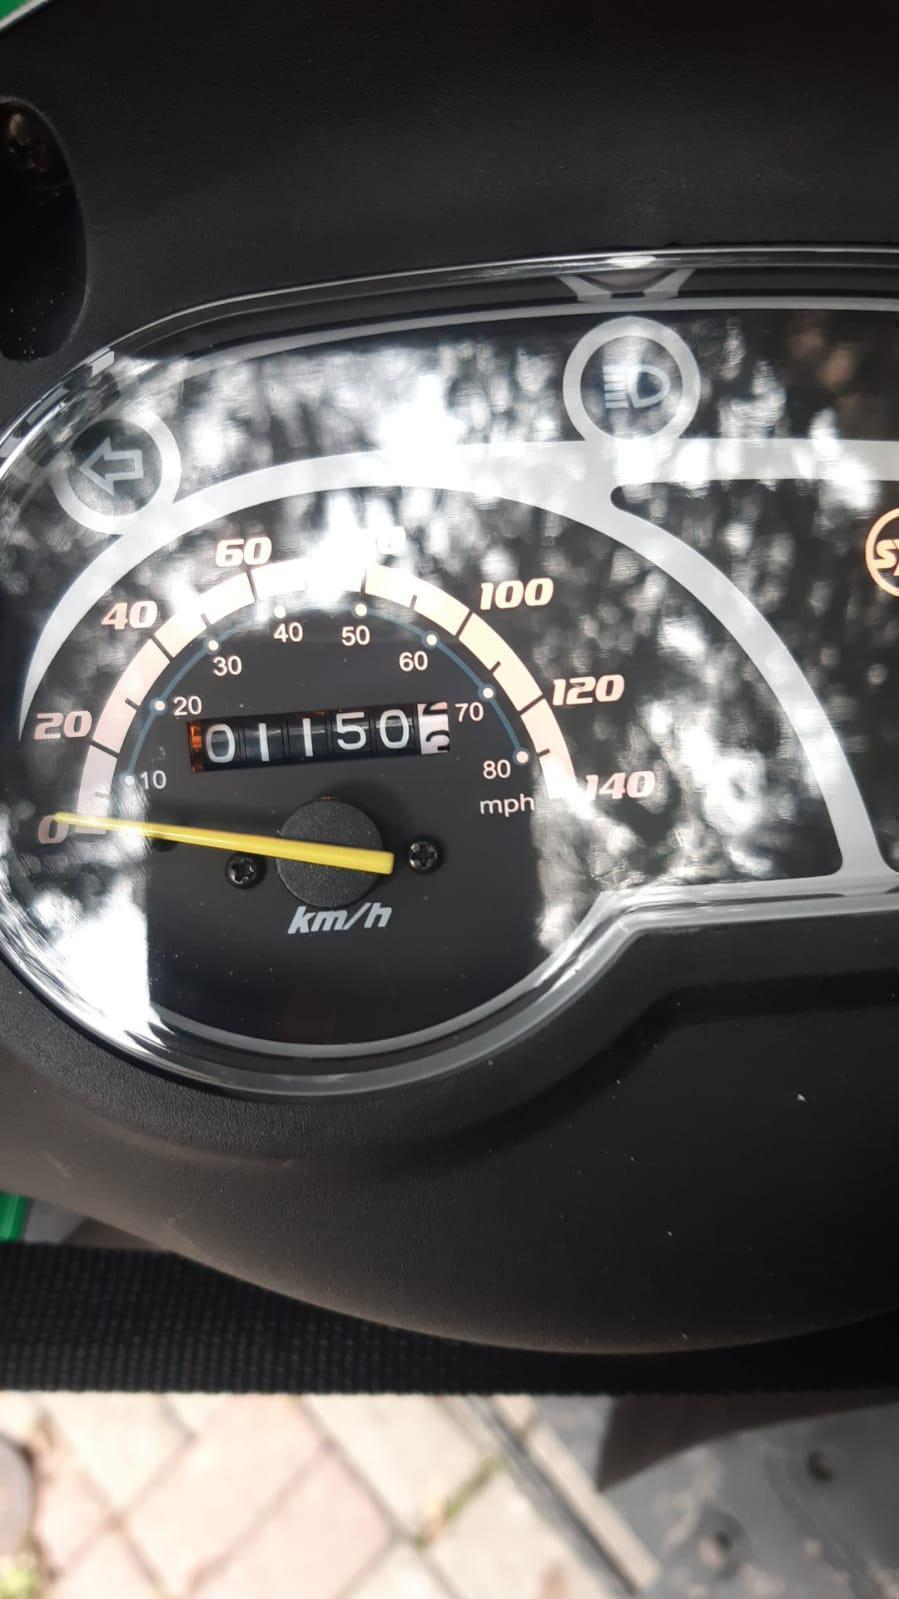0: (377, 704, 411, 751), (204, 720, 239, 762), (187, 693, 204, 715)
1: (252, 713, 276, 764), (297, 712, 317, 761)
3: (424, 723, 453, 761)
5: (334, 706, 369, 758)
odometer: (184, 698, 456, 775)
